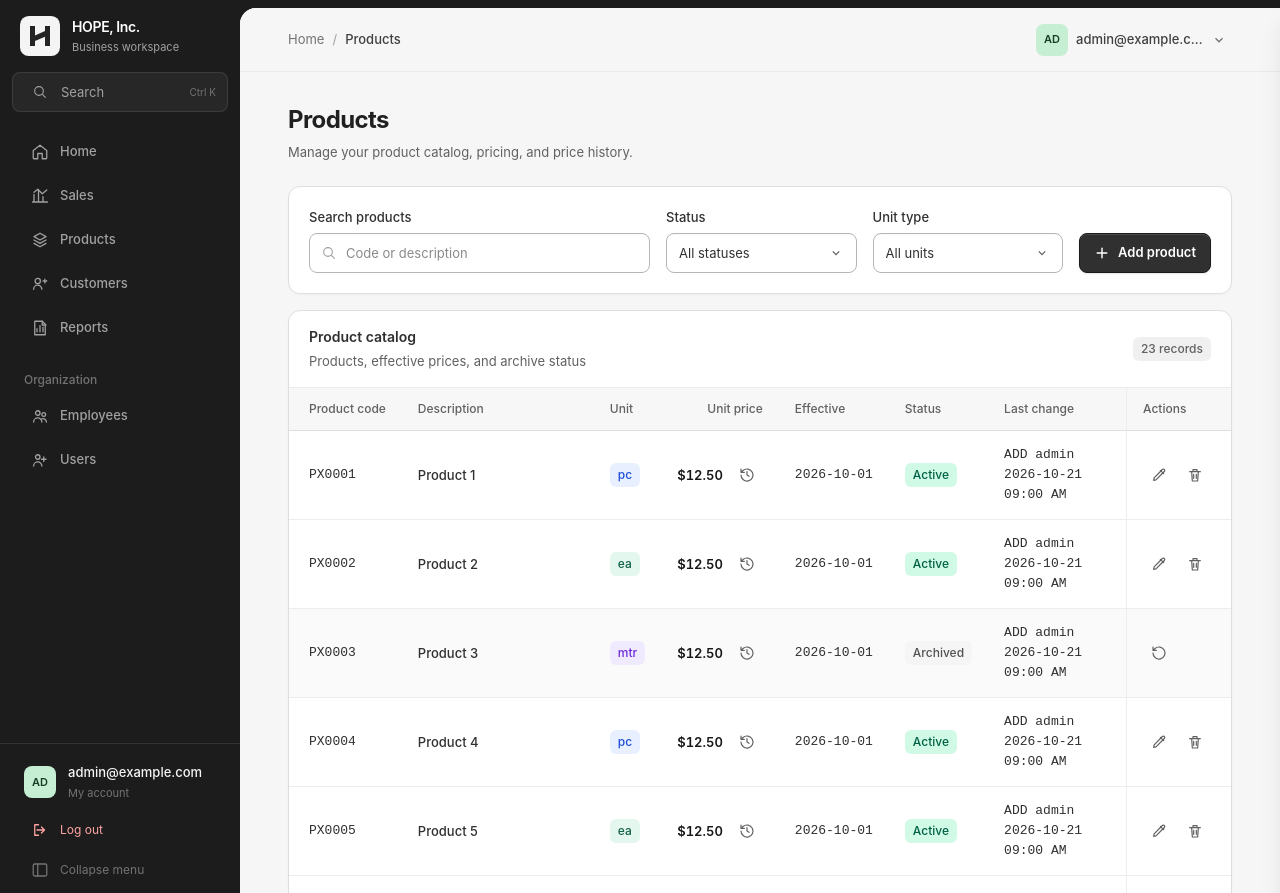
loads real product pages, history, skeletons, and server-side unit filters
expect the text "Product 1" is shown: met, box [402,431,594,520]
expect the text "ea" in the row of "PX0002" is shown: met, box [618,556,632,571]
Click the button named "Show price history for PX0001": click(747, 475) [731,459,763,491]
(page scrolled)
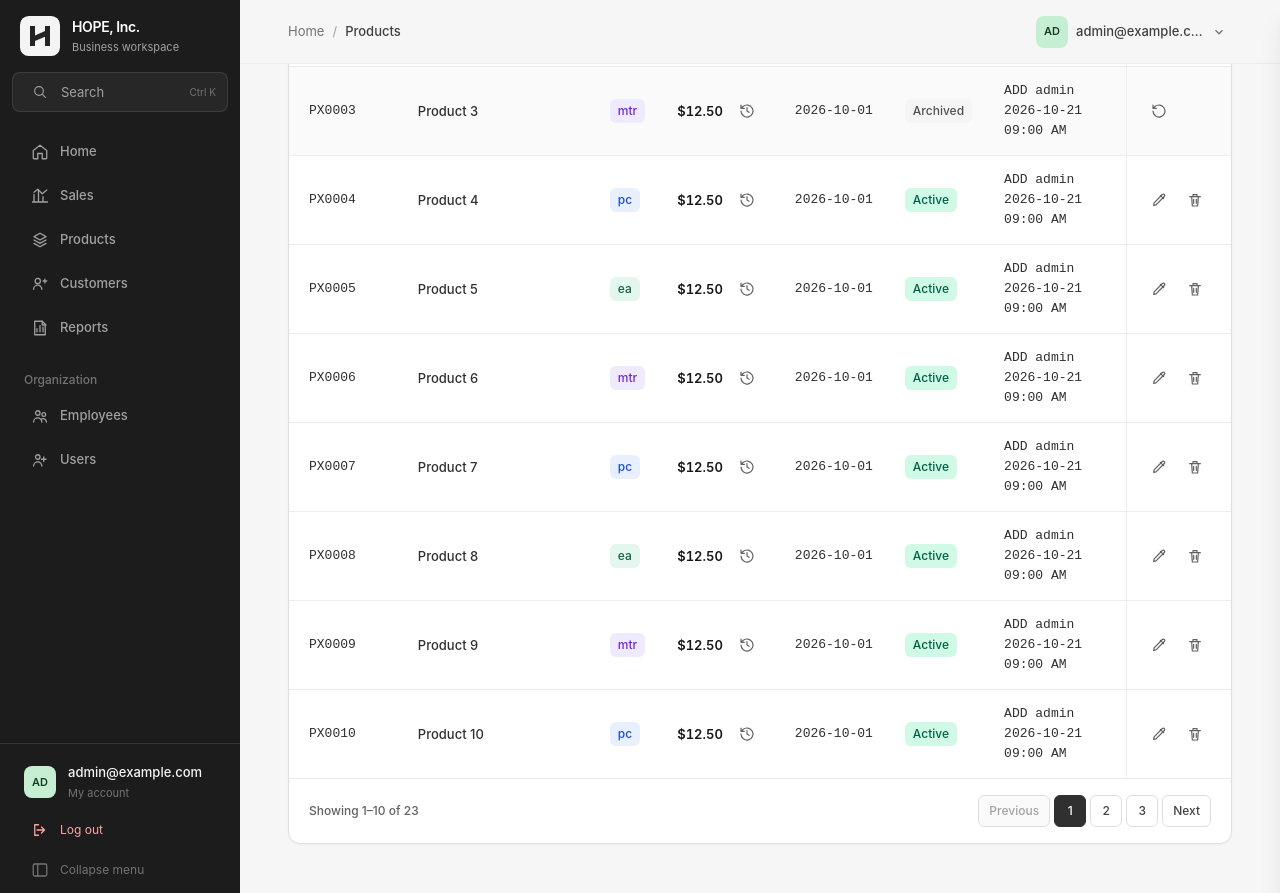
Click the button "Next": click(1187, 811) [1162,795,1211,827]
(page scrolled)
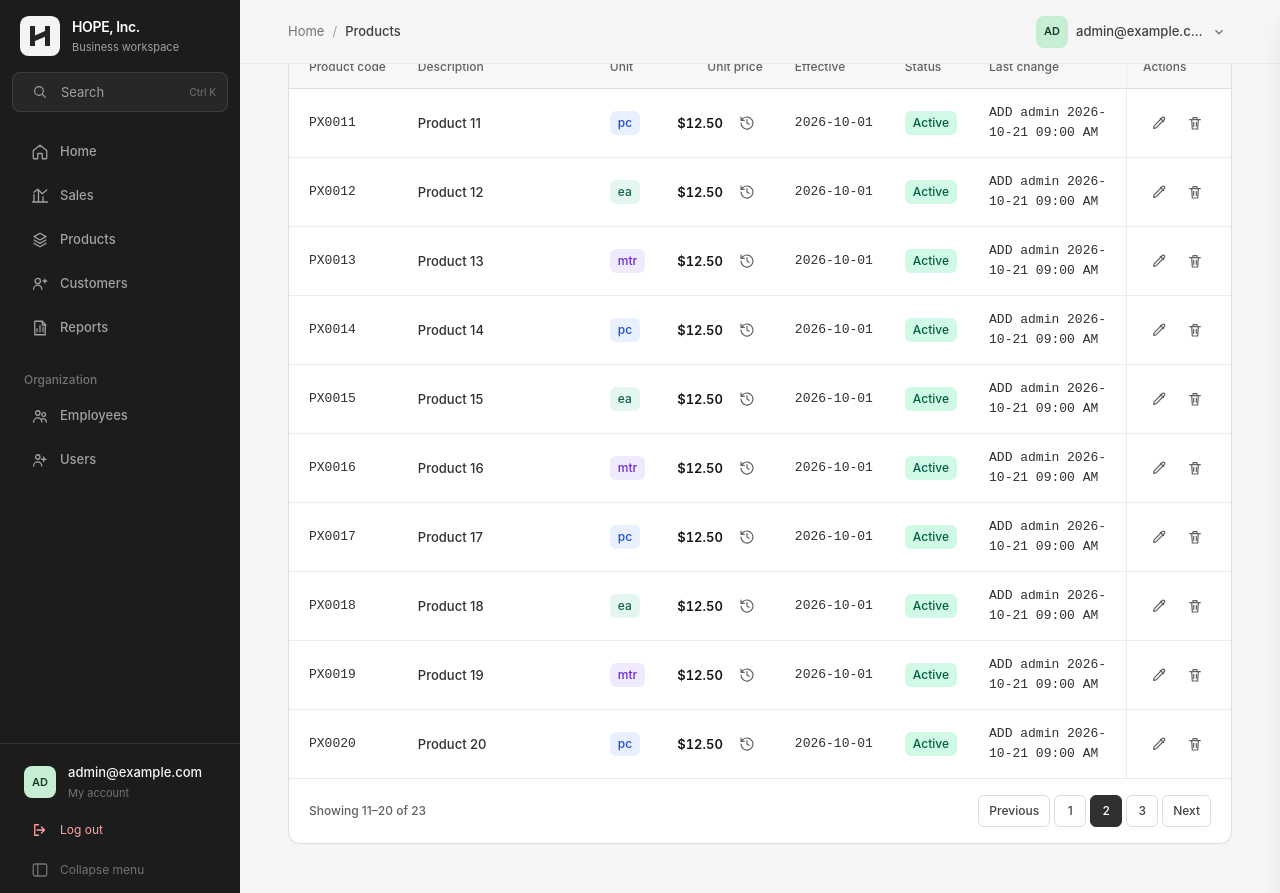
expect the text "Product 11" is shown: met, box [402,89,594,158]
expect the text "Showing 11–20 of 23" is shown: met, box [309,801,426,821]
Click the button named "Page 3": click(1142, 811) [1126,795,1158,827]
(page scrolled)
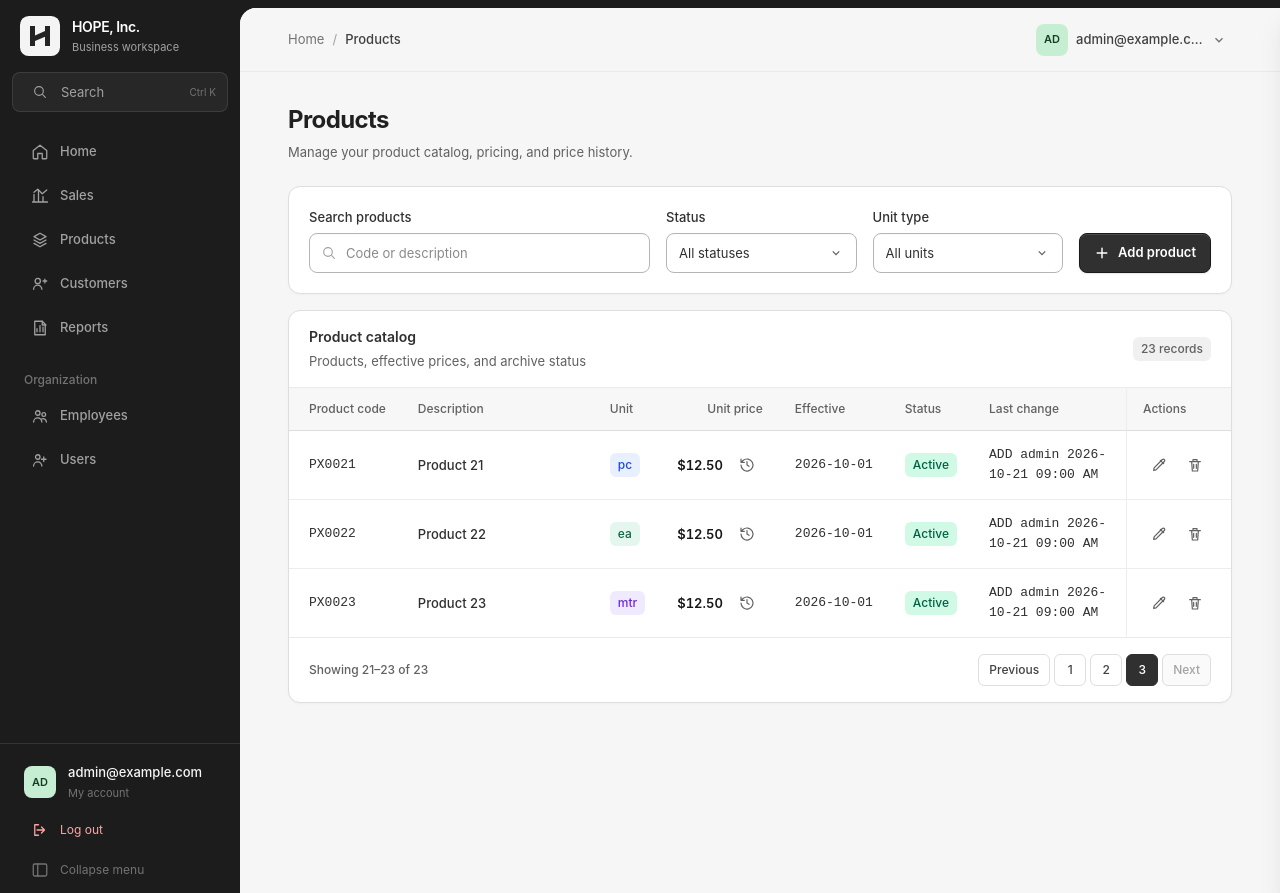
expect the text "Product 21" is shown: met, box [402,431,594,500]
expect the button "Next" is disabled: met, box [1162,654,1211,686]
Select "Each (ea)" in the dropdown labelled "Unit type": (968, 253) [873,233,1063,273]
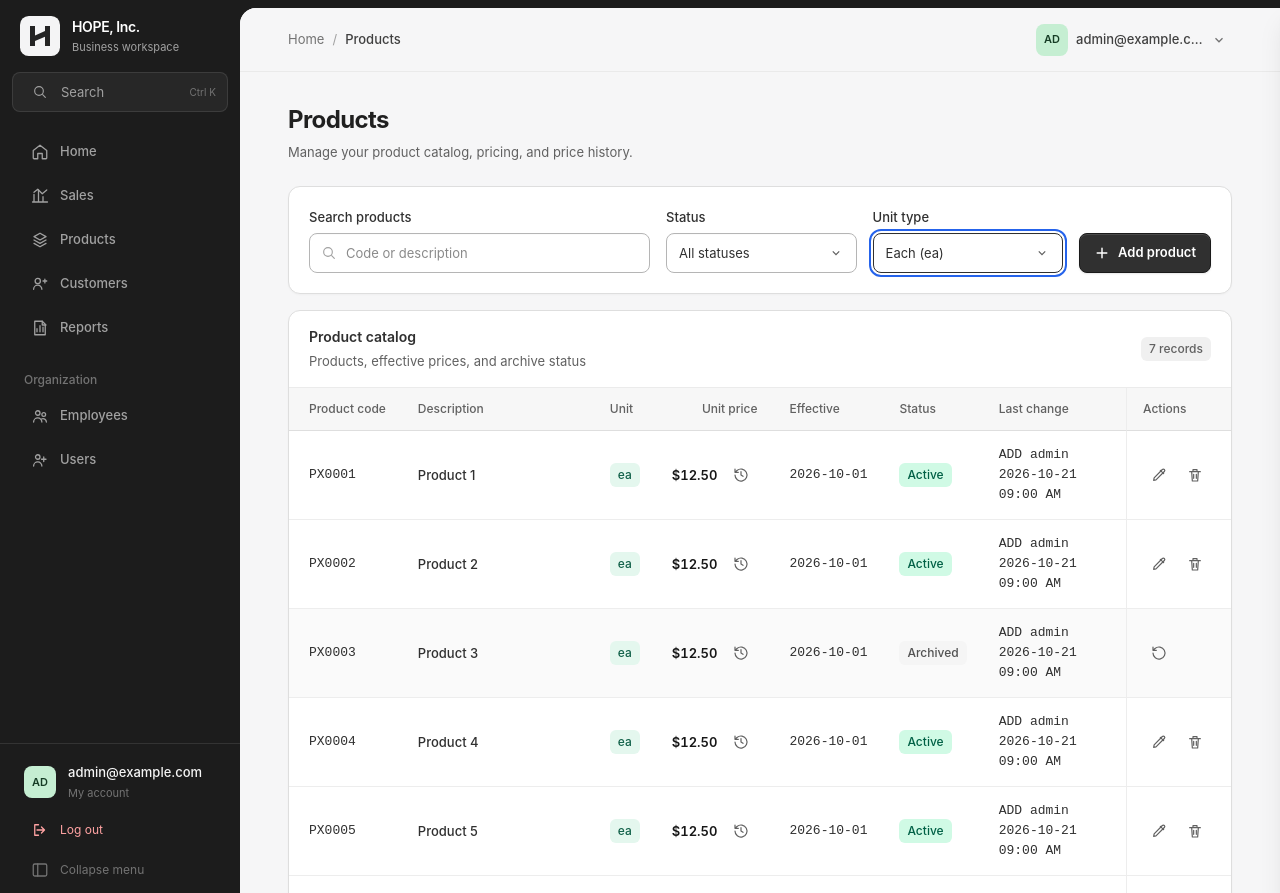
Select "Archived" in the dropdown labelled "Status": (761, 253) [666,233,856,273]
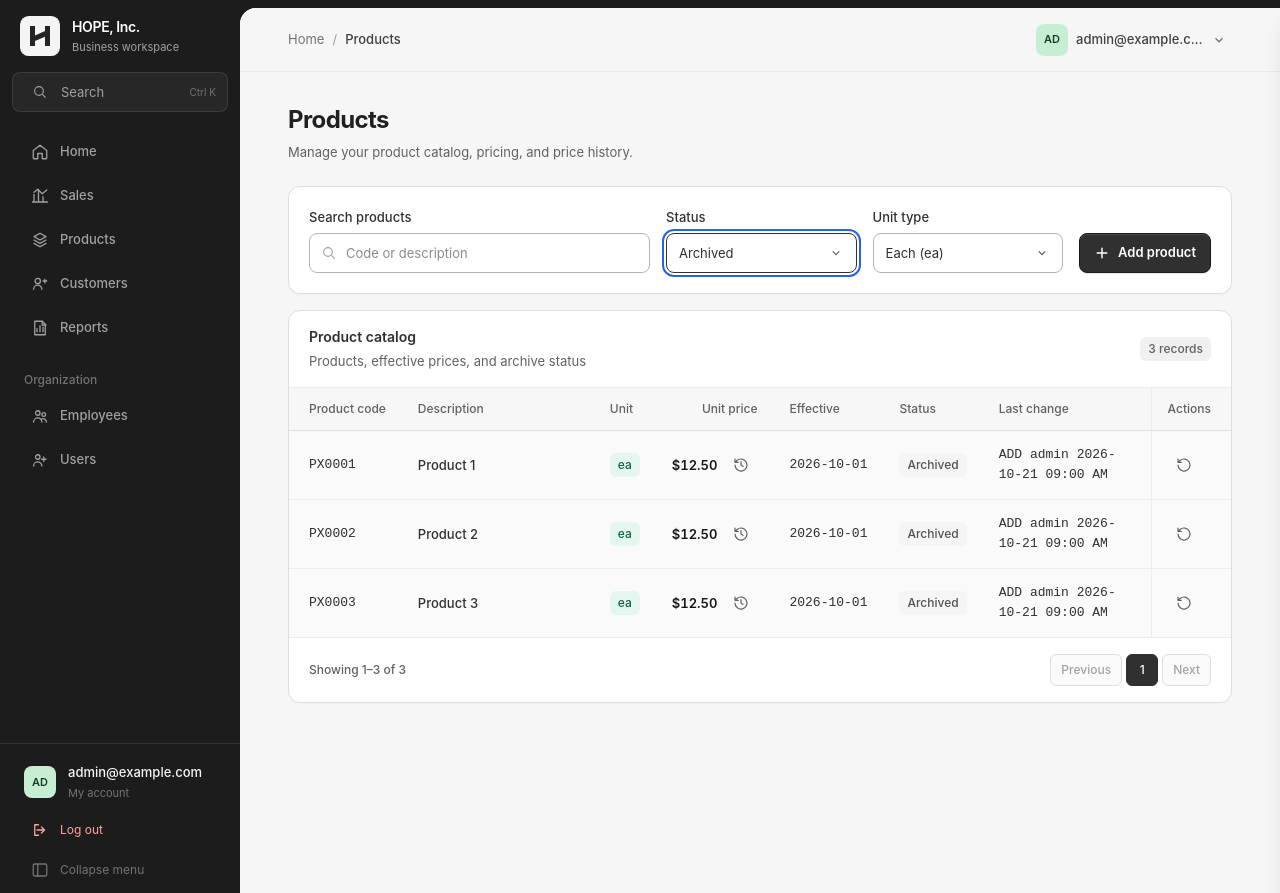
expect the text "Showing 1–3 of 3" is shown: met, box [309,660,406,680]
expect the text "Archived" is shown 3 times: met, box [900,453,967,477]; [900,522,967,546]; [900,591,967,615]
